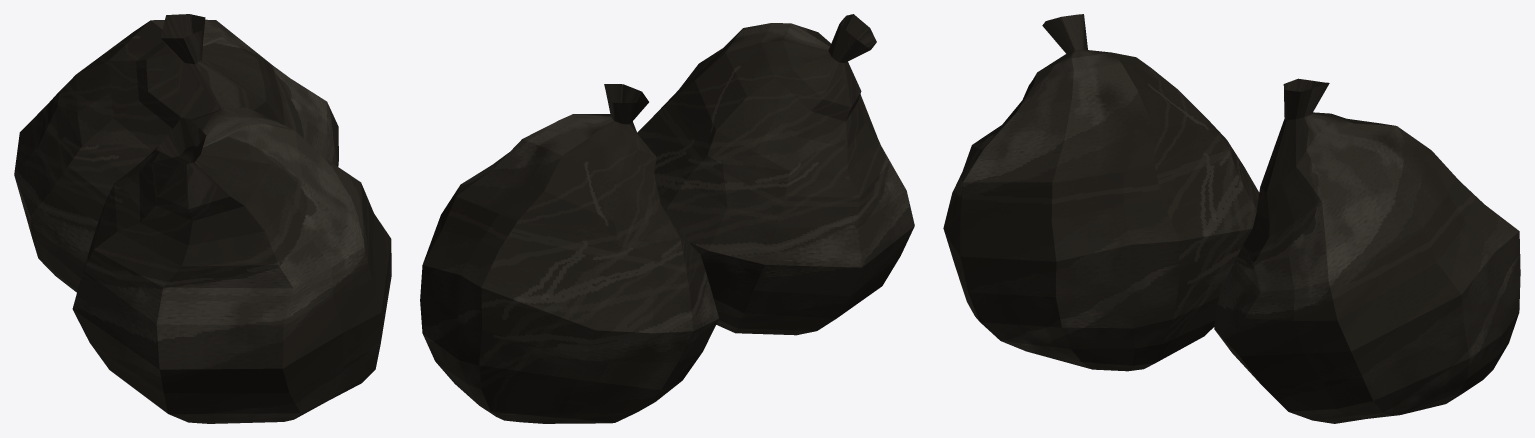
The model's file is SM_2bag.fbx.
3 views of the same model, side by side, from view 1: azimuth 30°, elevation 25°; view 2: azimuth 150°, elevation 25°; view 3: azimuth 270°, elevation 25° (orthographic). The views are drawn at different scales.
Visible parts, largest first — view 1: SM_trashdouble; view 2: SM_trashdouble; view 3: SM_trashdouble.
Part boxes in pixels (x1=…): SM_trashdouble: x1=14, y1=14, x2=391, y2=423; SM_trashdouble: x1=420, y1=14, x2=914, y2=423; SM_trashdouble: x1=943, y1=14, x2=1520, y2=423.
Bounding box in the file's own units: 58.03 × 52.34 × 83.95.
